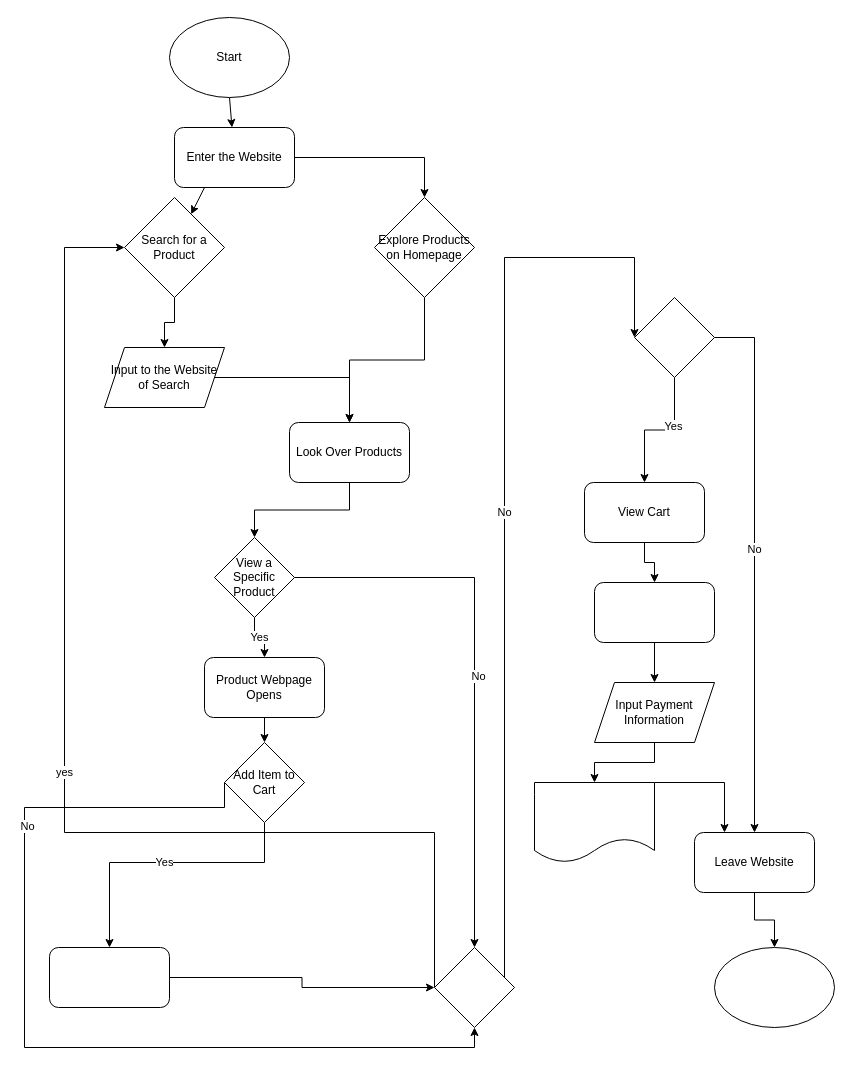
This 852x1073 diagram has some shape labels left out. The shapes that lost their labels are listed below. From the top down, each one's centre as x and y in pixels, then its label:
the point at 674,337: Checkout
the point at 654,612: View Payment
the point at 594,822: Order Confirmation Screen and Recieve Email
the point at 109,977: Recieve Confirmation of Added to Cart
the point at 474,987: Continue Shopping
the point at 774,987: End
